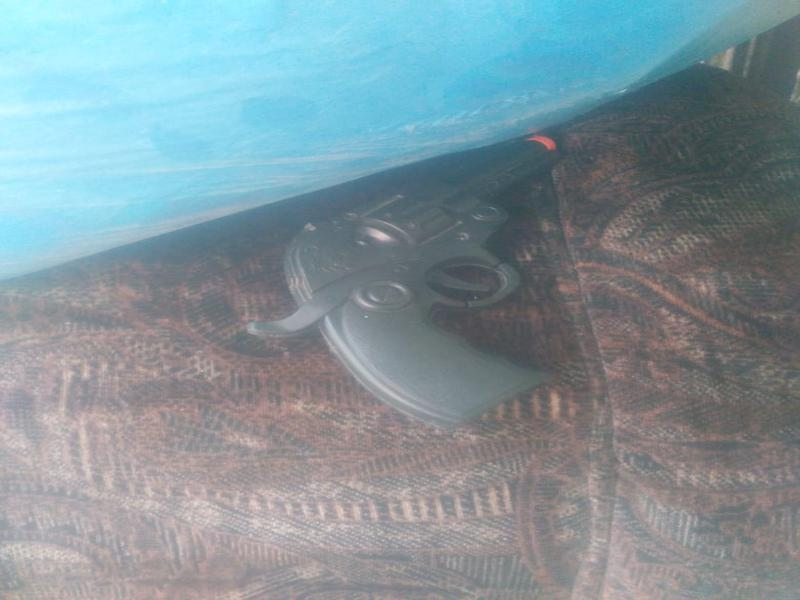gun: (240, 123, 662, 432)
